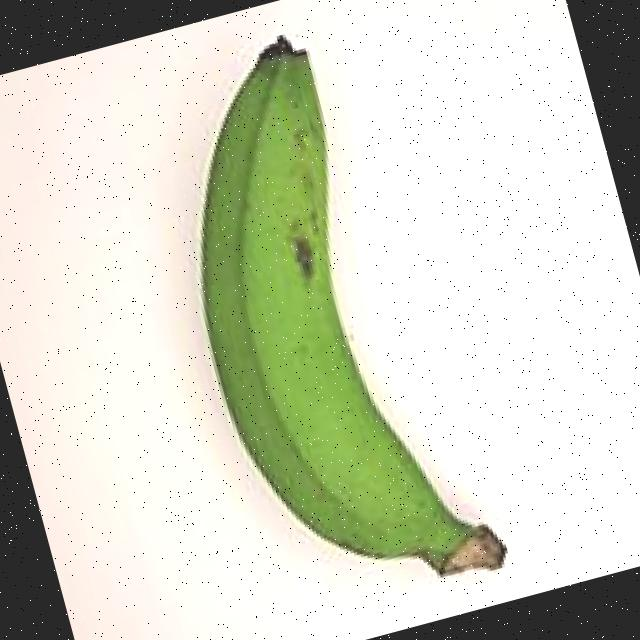Raw: (110, 0, 529, 640)
